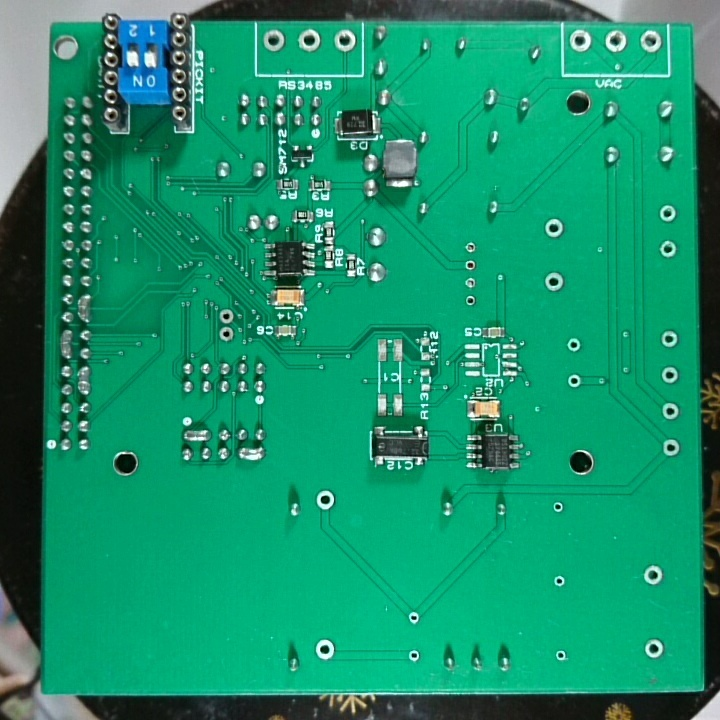F: (311, 635, 340, 663), (603, 28, 631, 56), (261, 26, 287, 55), (331, 27, 357, 55), (313, 487, 339, 515), (295, 26, 320, 55), (642, 635, 666, 663), (639, 27, 662, 56), (640, 561, 663, 590), (540, 270, 566, 295), (568, 28, 592, 55), (541, 217, 566, 240), (659, 400, 683, 423), (659, 436, 682, 460), (657, 200, 679, 225), (657, 238, 678, 262), (659, 364, 680, 386), (659, 328, 679, 350), (216, 306, 237, 326), (404, 646, 423, 666), (216, 324, 235, 343), (565, 372, 584, 390), (565, 335, 582, 355), (462, 256, 480, 274), (461, 273, 479, 291), (553, 646, 569, 666), (551, 572, 567, 592), (462, 292, 479, 310), (405, 609, 422, 626), (550, 499, 565, 518), (462, 240, 479, 255)
P: (74, 292, 94, 325), (234, 444, 268, 463), (74, 366, 94, 398), (57, 327, 74, 360), (180, 427, 214, 443)
